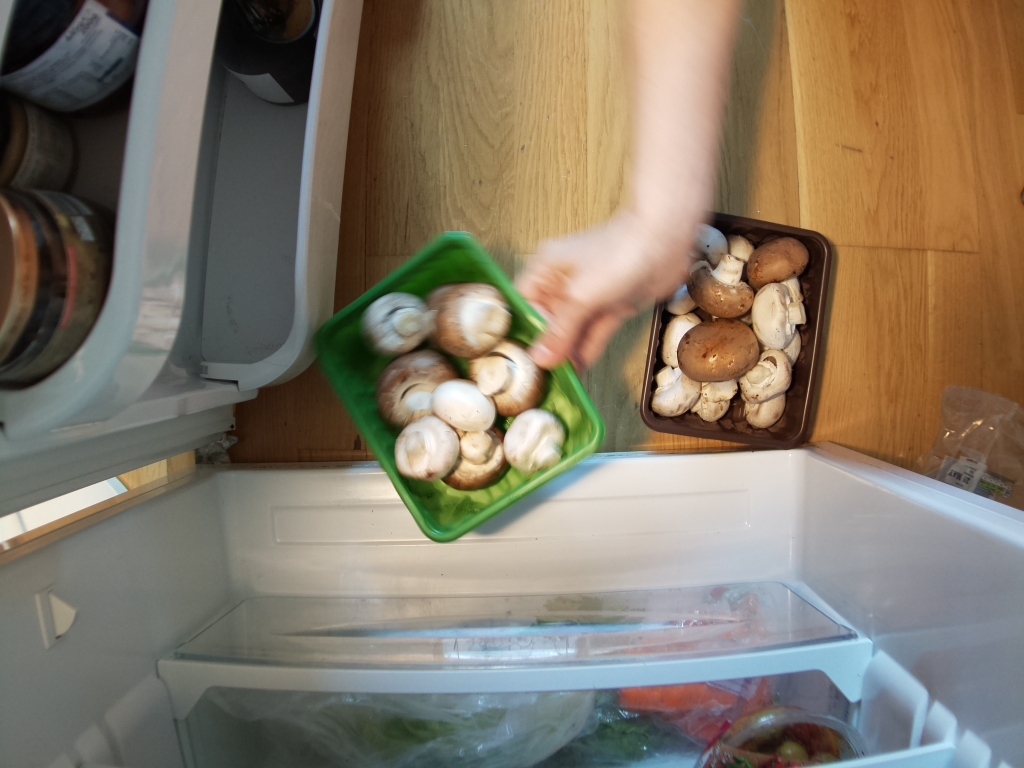mushrooms: (313, 228, 604, 525), (652, 214, 822, 444)
